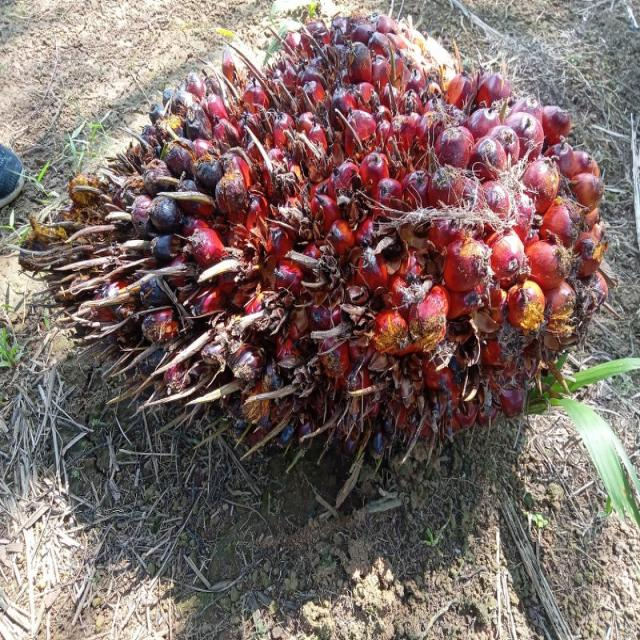fraksi 3: (45, 6, 622, 495)
